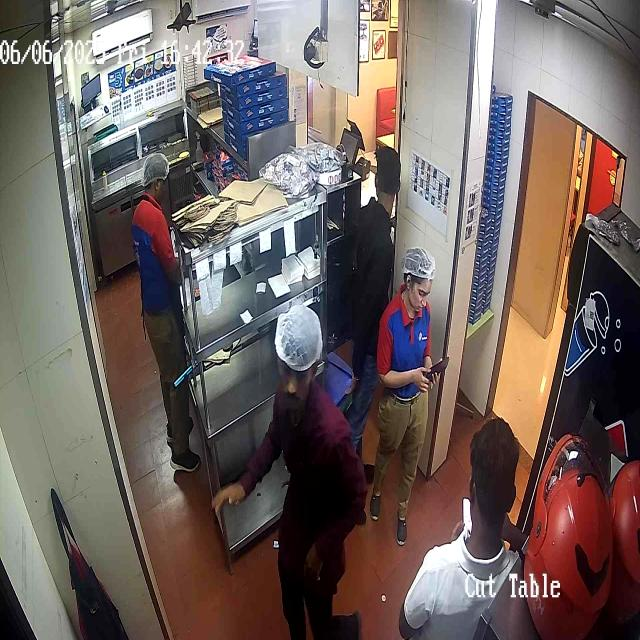helmet: (523, 430, 613, 639)
